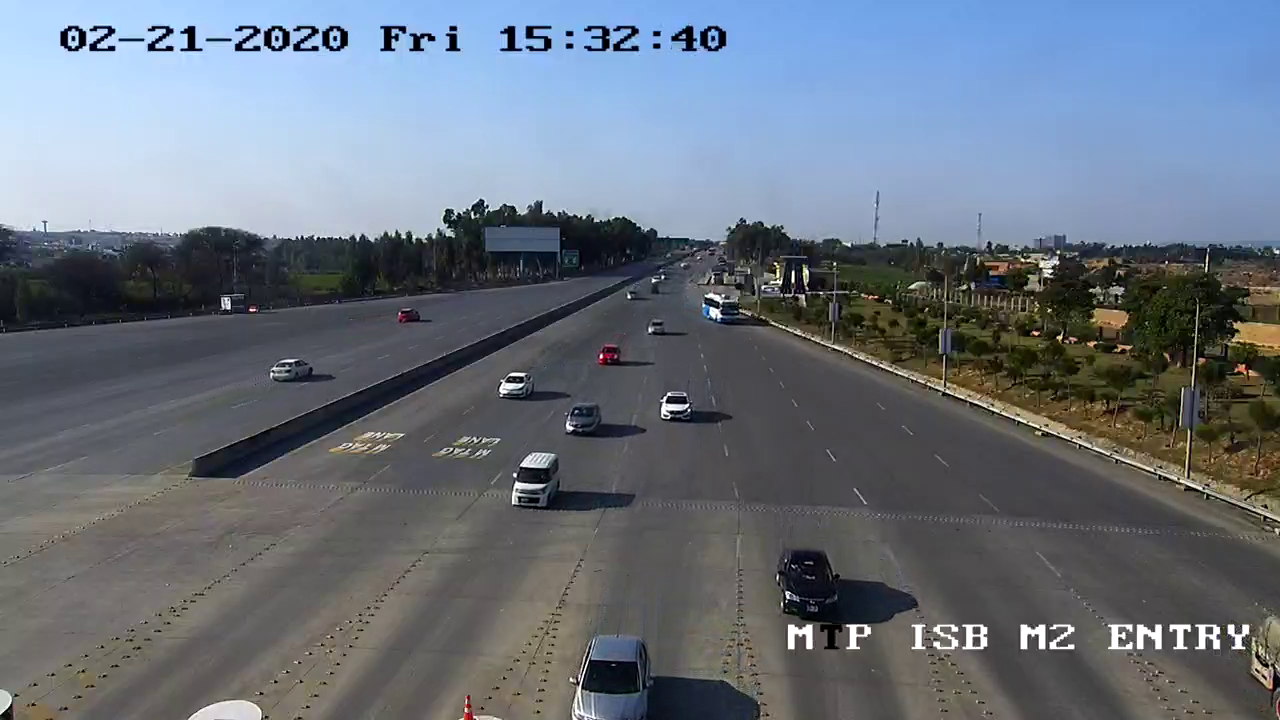f1: (769, 537, 853, 622), (502, 448, 566, 523), (648, 377, 706, 438), (560, 394, 614, 448), (491, 355, 535, 415)
